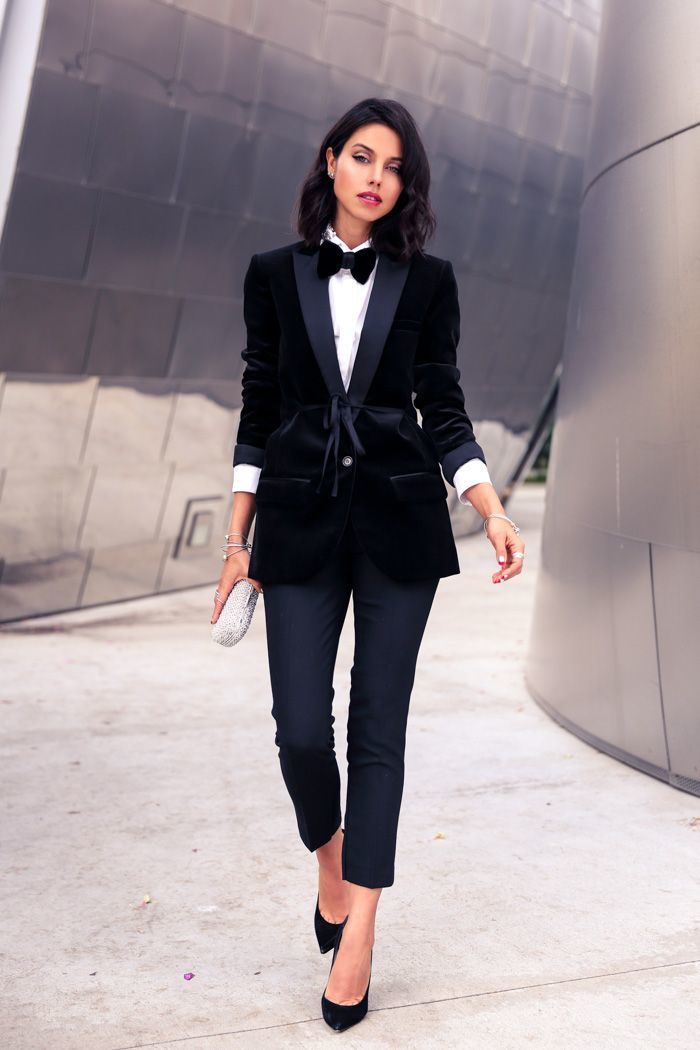bow: (316, 235, 384, 295)
